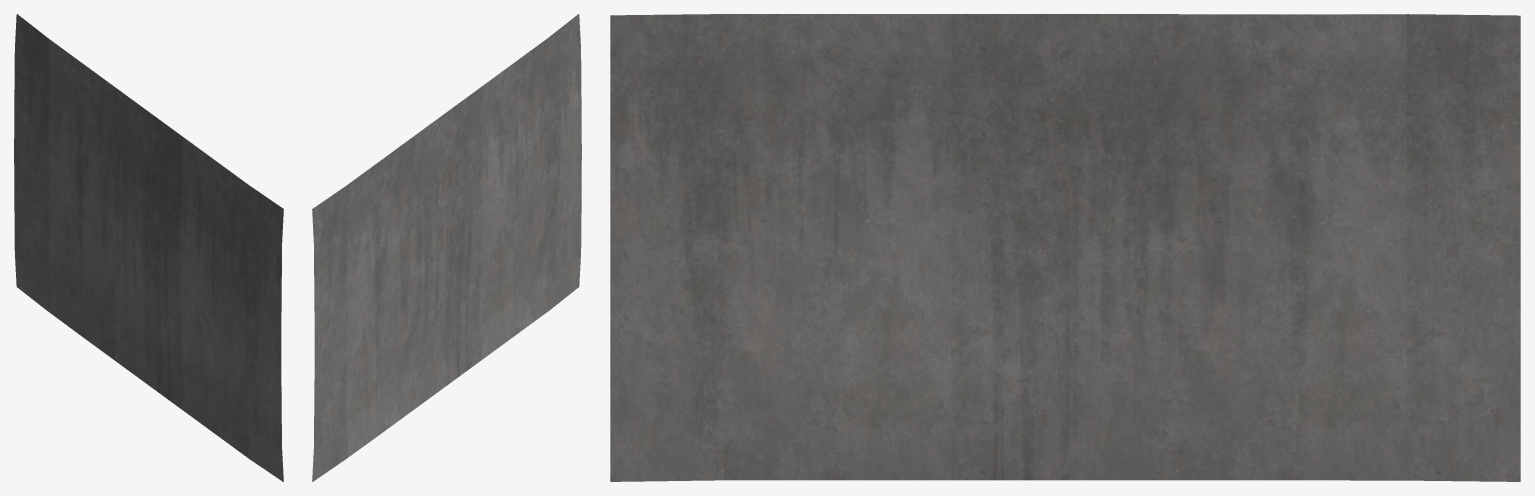
File: Psychiatric_Ward_Infirmary_Wall_Paper_1.glb
3 views of the same model, side by side, from view 1: azimuth 30°, elevation 25°; view 2: azimuth 150°, elevation 25°; view 3: azimuth 270°, elevation 25° (orthographic). The views are drawn at different scales.
Parts seen in each view (by area): view 1: Wall_Paper_4, Wall_Paper_2, Wall_Paper_8, Wall_Paper_7, Wall_Paper_1, Wall_Paper_3, Wall_Paper_6, Wall_Paper_5; view 2: Wall_Paper_5, Wall_Paper_6, Wall_Paper_1, Wall_Paper_3, Wall_Paper_7, Wall_Paper_8, Wall_Paper_2, Wall_Paper_4; view 3: Wall_Paper_5, Wall_Paper_4, Wall_Paper_1, Wall_Paper_8, Wall_Paper_2, Wall_Paper_3, Wall_Paper_6, Wall_Paper_7.
Part boxes in pixels (x1,y1,x2,y2): Wall_Paper_4: [145, 112, 183, 408]; Wall_Paper_2: [212, 160, 249, 457]; Wall_Paper_8: [14, 14, 49, 311]; Wall_Paper_7: [48, 39, 83, 335]; Wall_Paper_1: [247, 185, 283, 481]; Wall_Paper_3: [180, 136, 216, 433]; Wall_Paper_6: [81, 63, 116, 359]; Wall_Paper_5: [113, 87, 148, 384]; Wall_Paper_5: [412, 112, 450, 408]; Wall_Paper_6: [379, 136, 415, 433]; Wall_Paper_1: [545, 14, 581, 311]; Wall_Paper_3: [479, 63, 516, 359]; Wall_Paper_7: [346, 161, 381, 457]; Wall_Paper_8: [312, 185, 347, 481]; Wall_Paper_2: [512, 39, 548, 335]; Wall_Paper_4: [447, 87, 482, 384]; Wall_Paper_5: [1065, 14, 1179, 480]; Wall_Paper_4: [951, 14, 1065, 480]; Wall_Paper_1: [610, 14, 723, 481]; Wall_Paper_8: [1407, 14, 1520, 481]; Wall_Paper_2: [724, 14, 837, 480]; Wall_Paper_3: [838, 14, 951, 480]; Wall_Paper_6: [1179, 14, 1292, 480]; Wall_Paper_7: [1293, 14, 1406, 480].
Size of the model in its own units: 0.0503 by 2.26 by 4.
1 material, 1 textured.
